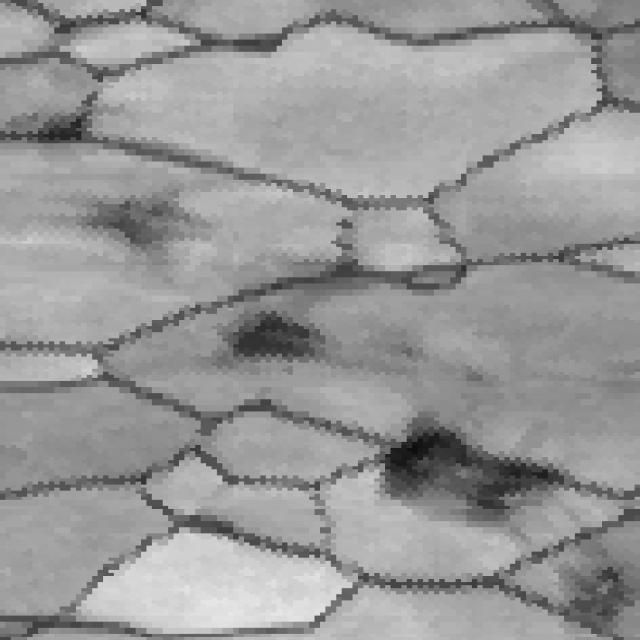good_void: (370, 403, 596, 537), (202, 301, 358, 378), (85, 188, 220, 258), (538, 548, 640, 640), (30, 106, 107, 154)
